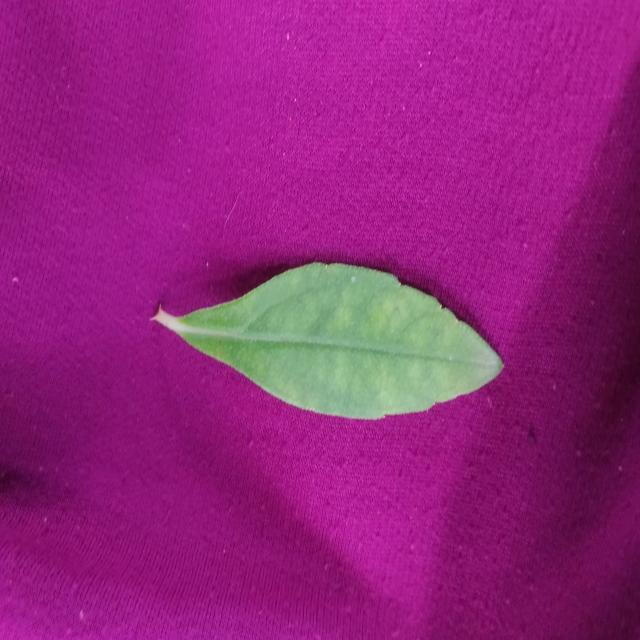bringaraja: (154, 262, 502, 420)
